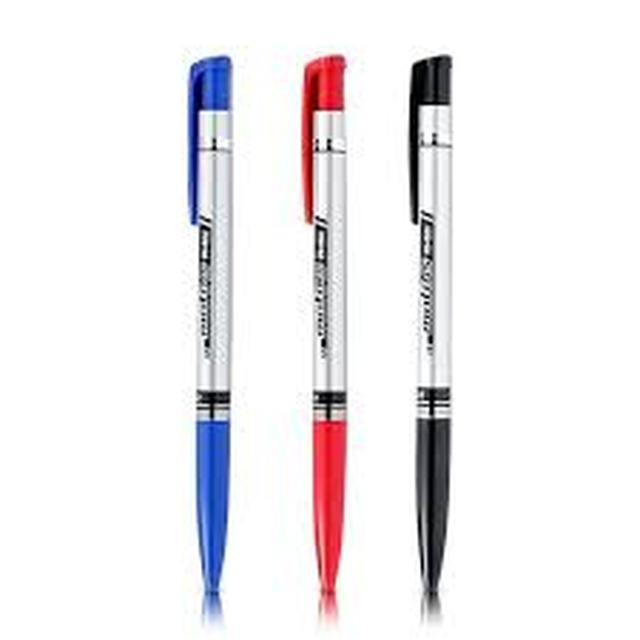pen: (165, 41, 255, 610), (398, 44, 483, 623), (289, 41, 368, 610)
